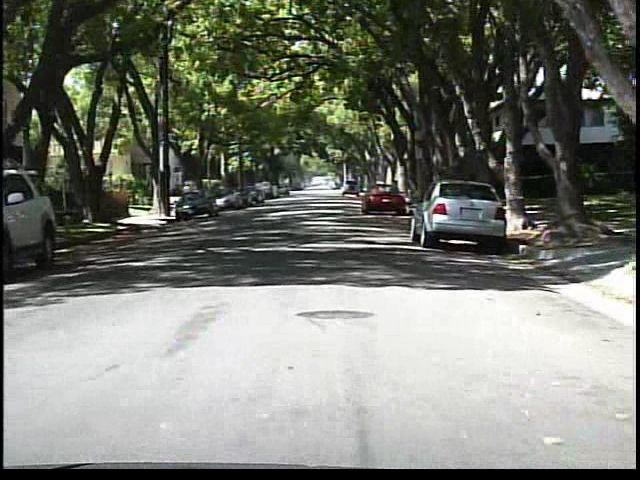person: (180, 179, 198, 212)
